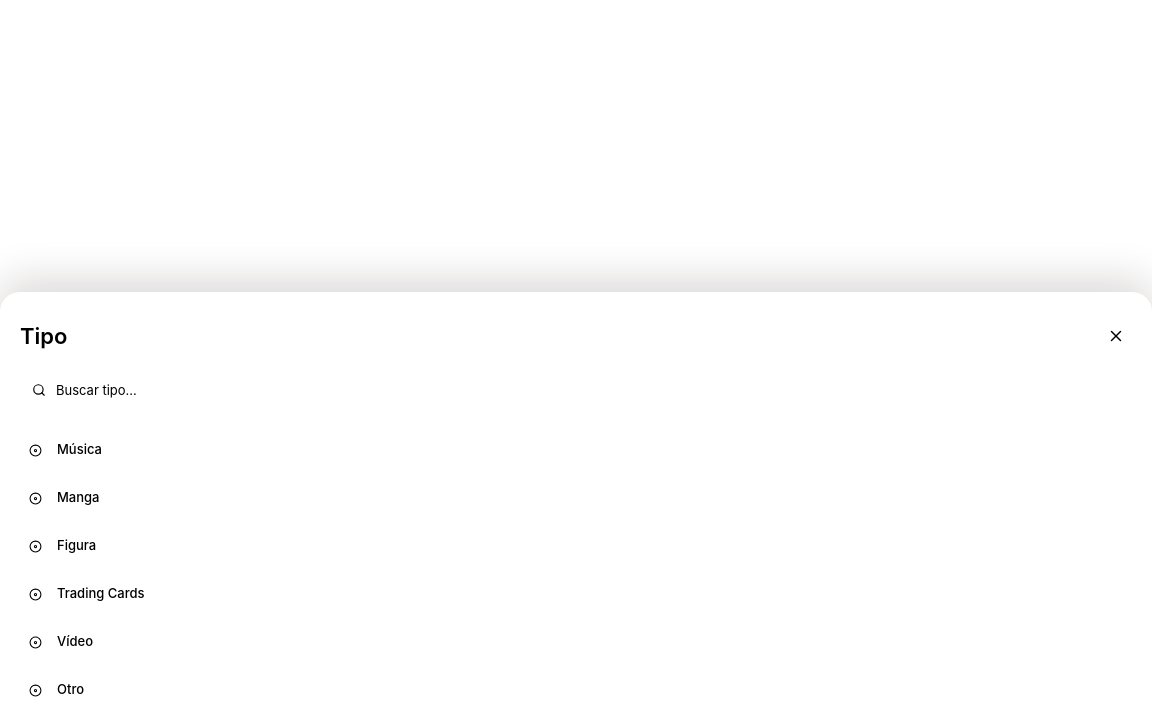
it: MobilePicker › renders search input when searchable and filters by query
Type "mang" into the search field with placeholder "Buscar tipo…".
click(576, 390); type("mang")  # box [20,372,1132,408]
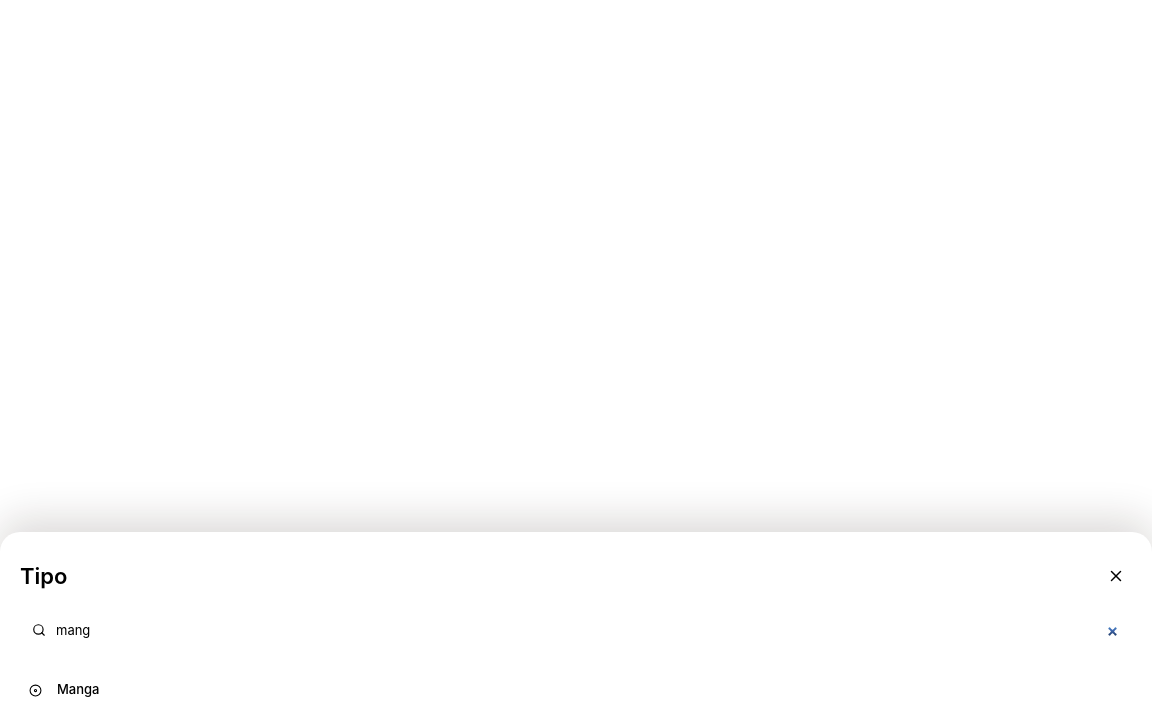
Check: the option "Manga" is shown, box [12,668,1140,712]
Check: the option "Música" is gone
